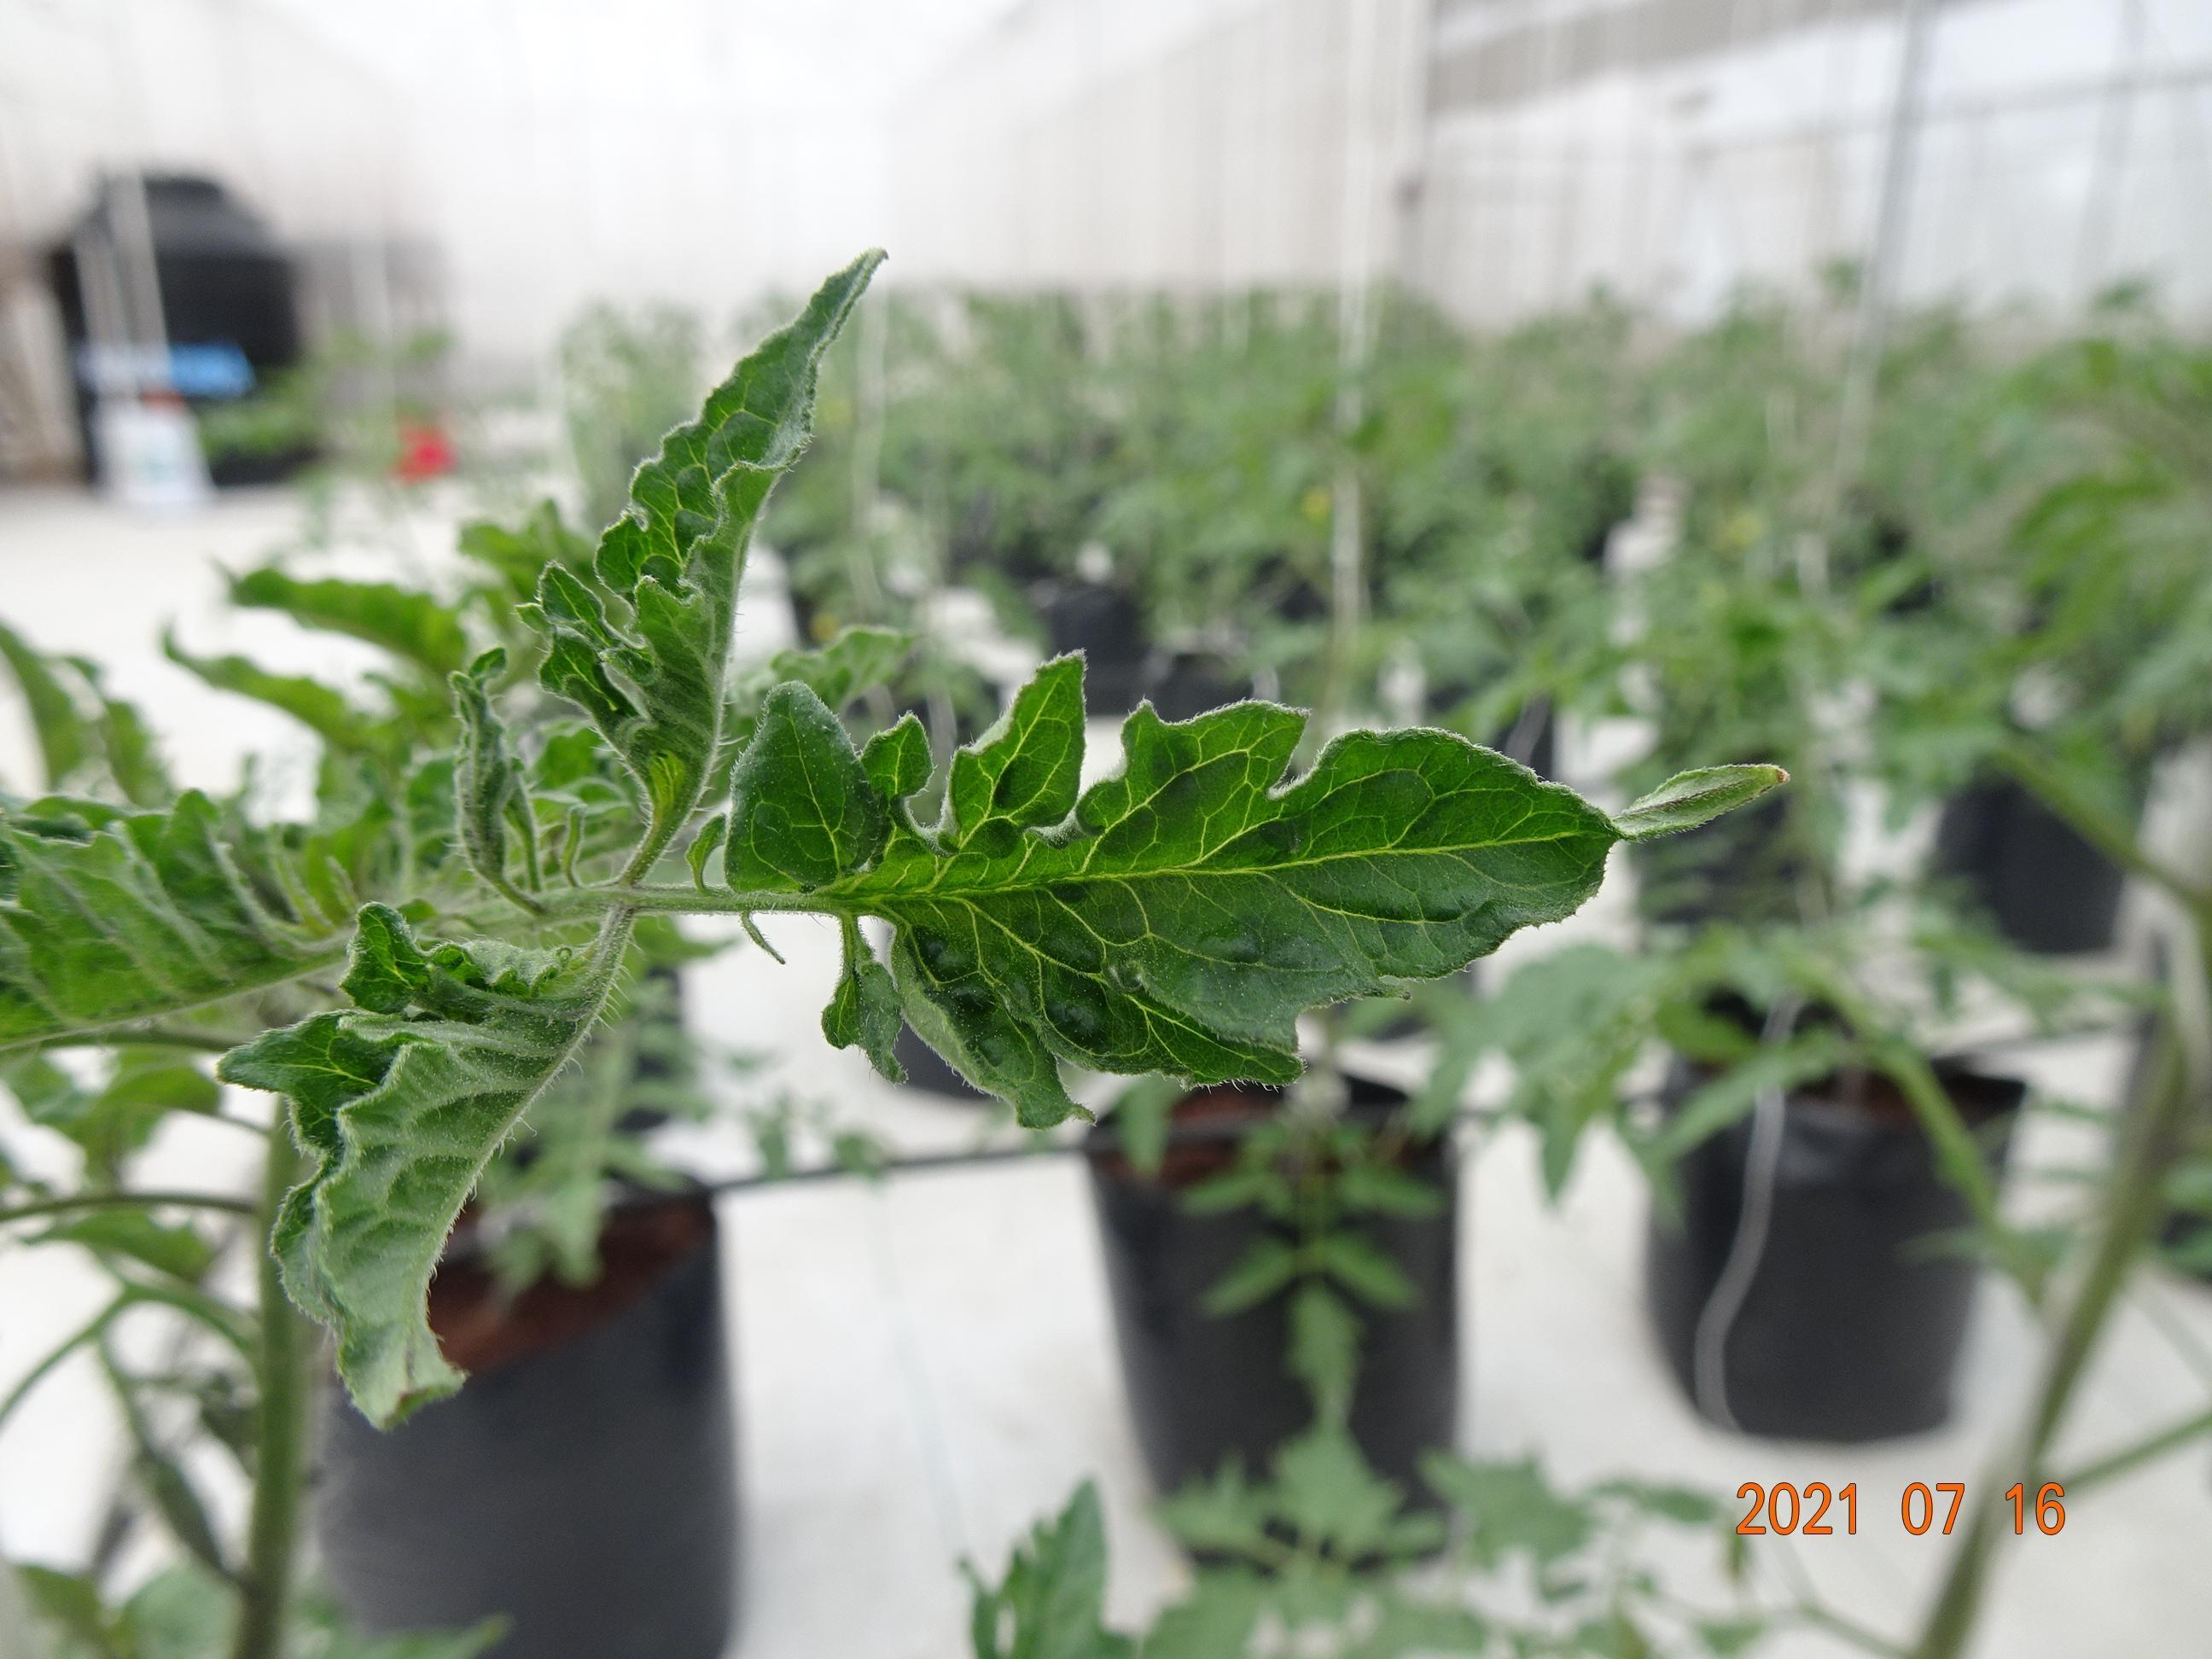Rugose leaf: (723, 655, 1622, 1125)
